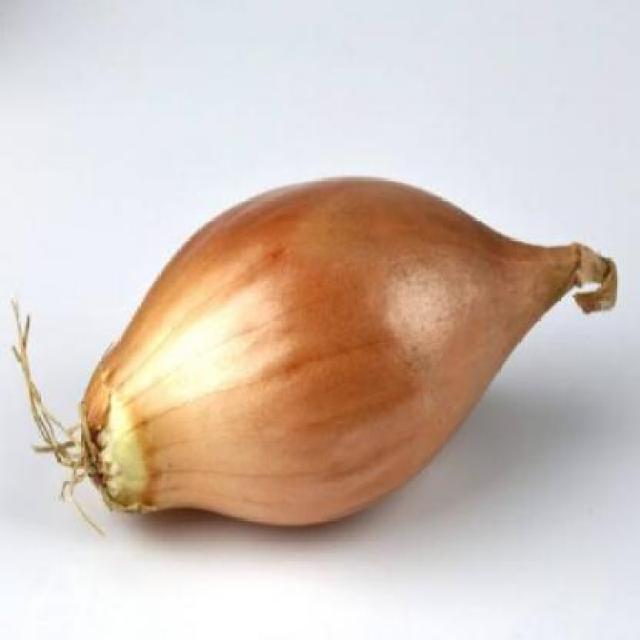Onion: (80, 178, 618, 525)
